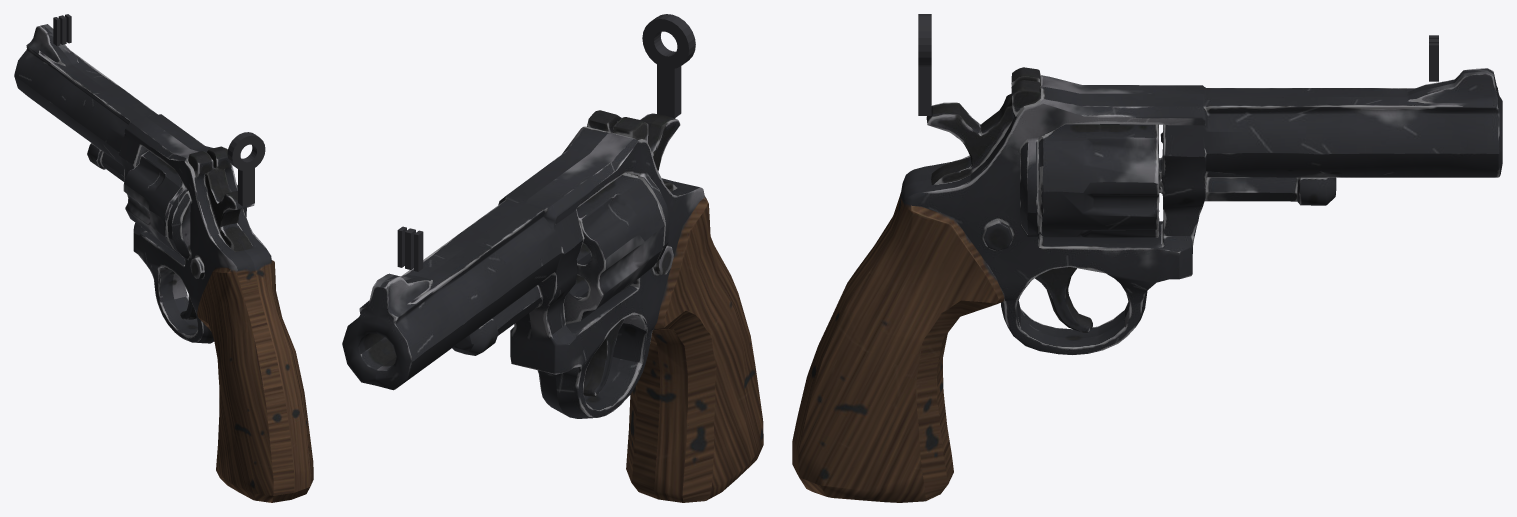
The model's file is revolver.glb.
3 renders of one model, left to right at view 1: azimuth 30°, elevation 25°; view 2: azimuth 150°, elevation 25°; view 3: azimuth 270°, elevation 25°, orthographic. The views are drawn at different scales.
Visible parts, largest first — view 1: revolver_world, rear_ring, rear_stem; view 2: revolver_world, rear_ring, rear_stem; view 3: revolver_world.
Boxes of the visible parts, box(x1,y1,x2,y2) form: revolver_world: box(14, 24, 313, 502); rear_ring: box(227, 132, 265, 170); rear_stem: box(238, 166, 254, 206); revolver_world: box(342, 110, 763, 502); rear_ring: box(642, 14, 695, 68); rear_stem: box(657, 62, 681, 118); revolver_world: box(792, 67, 1502, 502).
Size of the model in its own units: 0.0578 by 0.2333 by 0.321.
2 materials, 1 textured.
